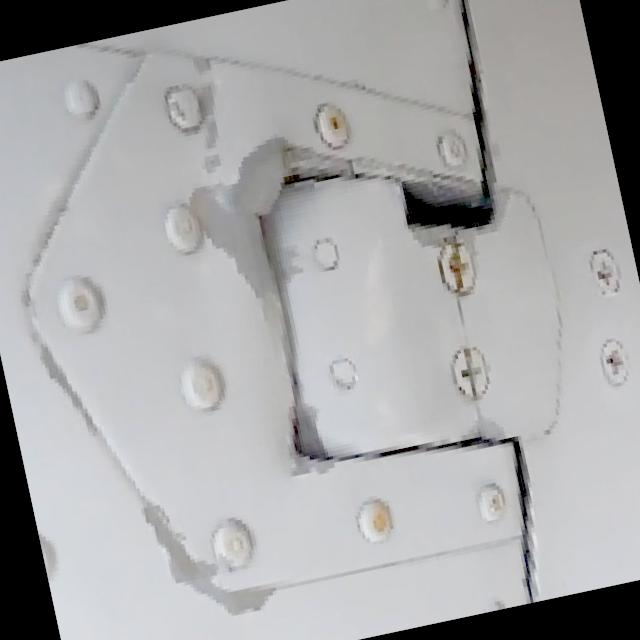crack: (444, 290, 482, 346)
